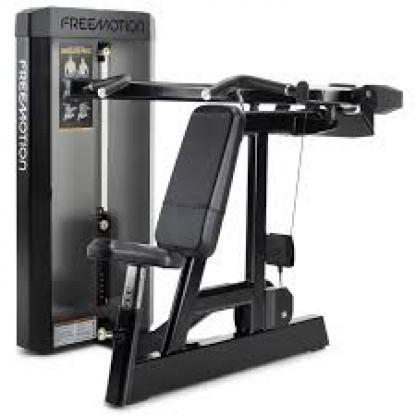shoulder press machine: (5, 3, 416, 414)
